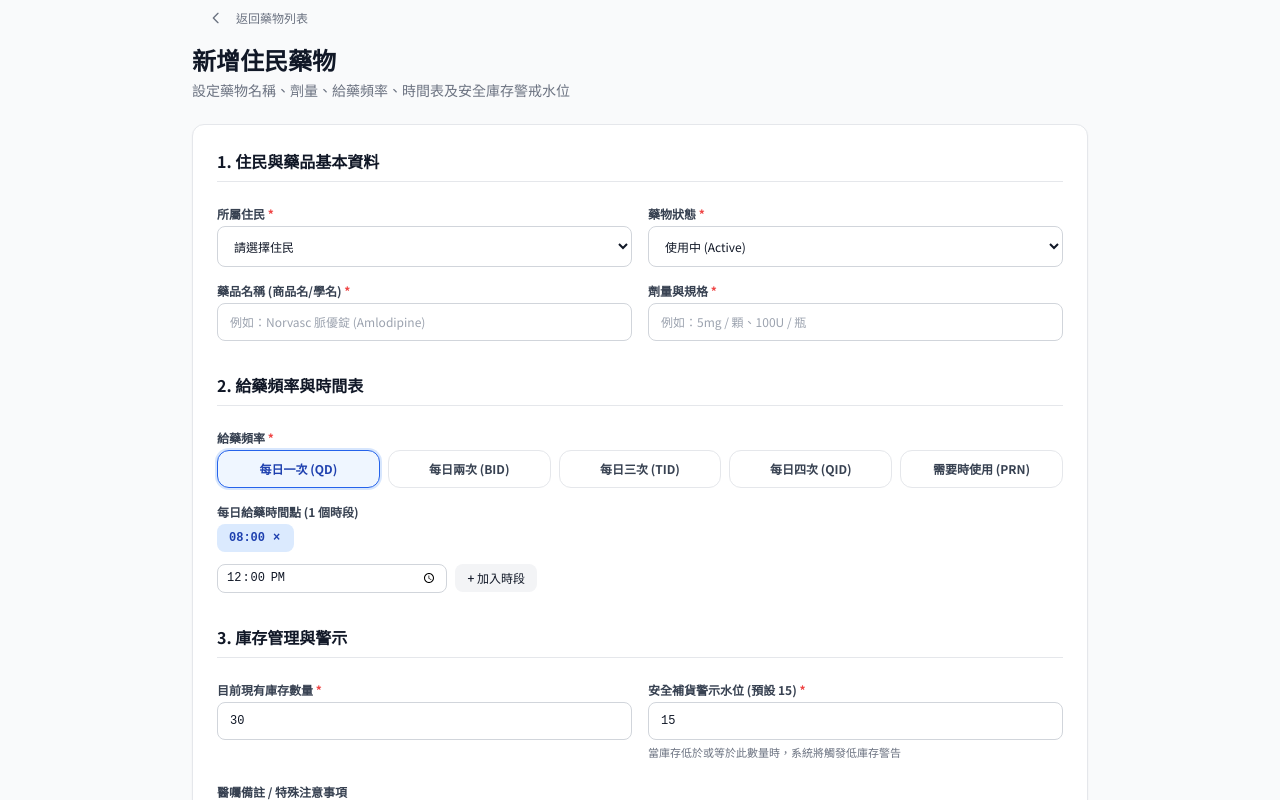
it: MedicationFormPage › allows adding and removing schedule time slots
Expected: the text "08:00" is shown, [229, 531, 265, 545]
Click the button "+ 加入時段" at (496, 578), box [456, 564, 537, 592]
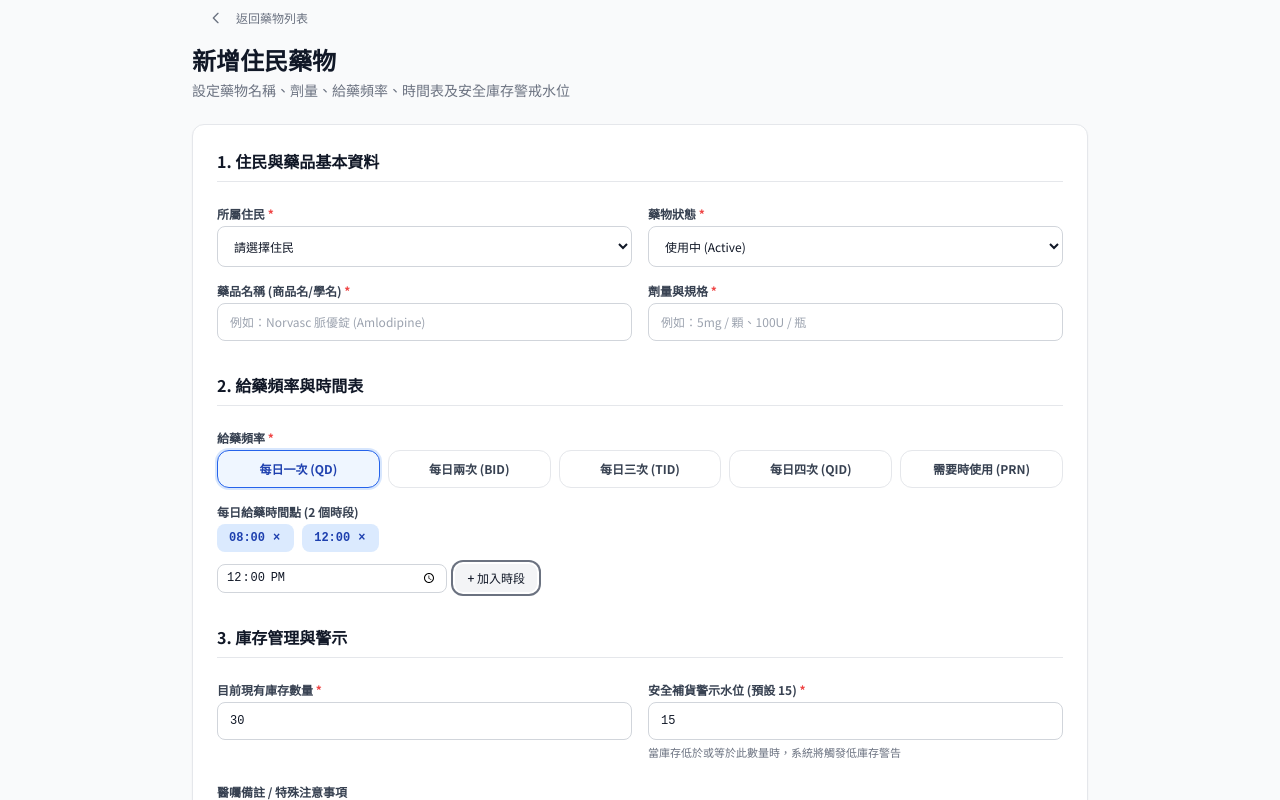
Now the text "12:00" is shown, box [314, 531, 350, 545]
